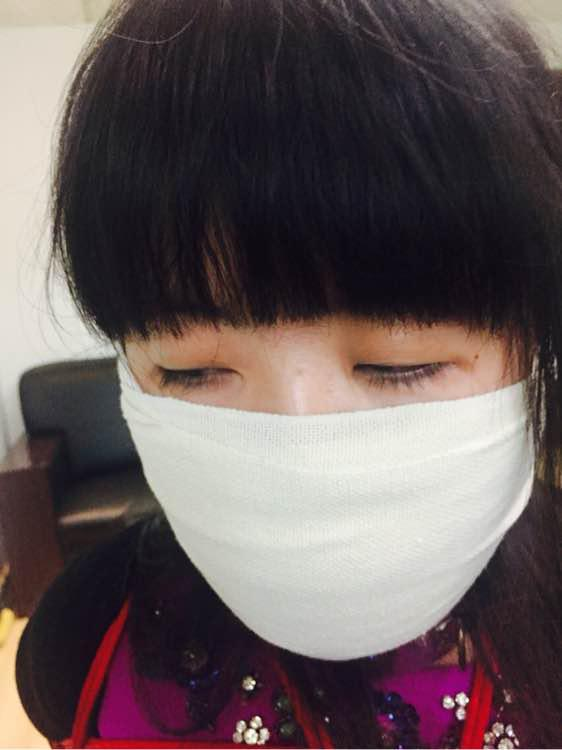OK: (121, 221, 520, 664)
